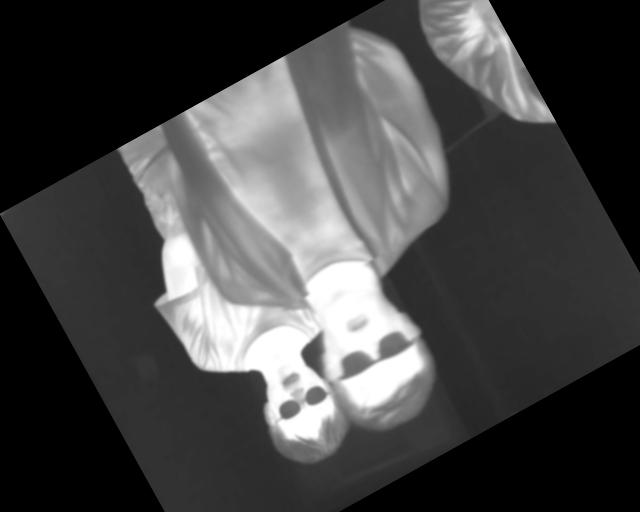face: (294, 267, 458, 448), (240, 349, 360, 480)
